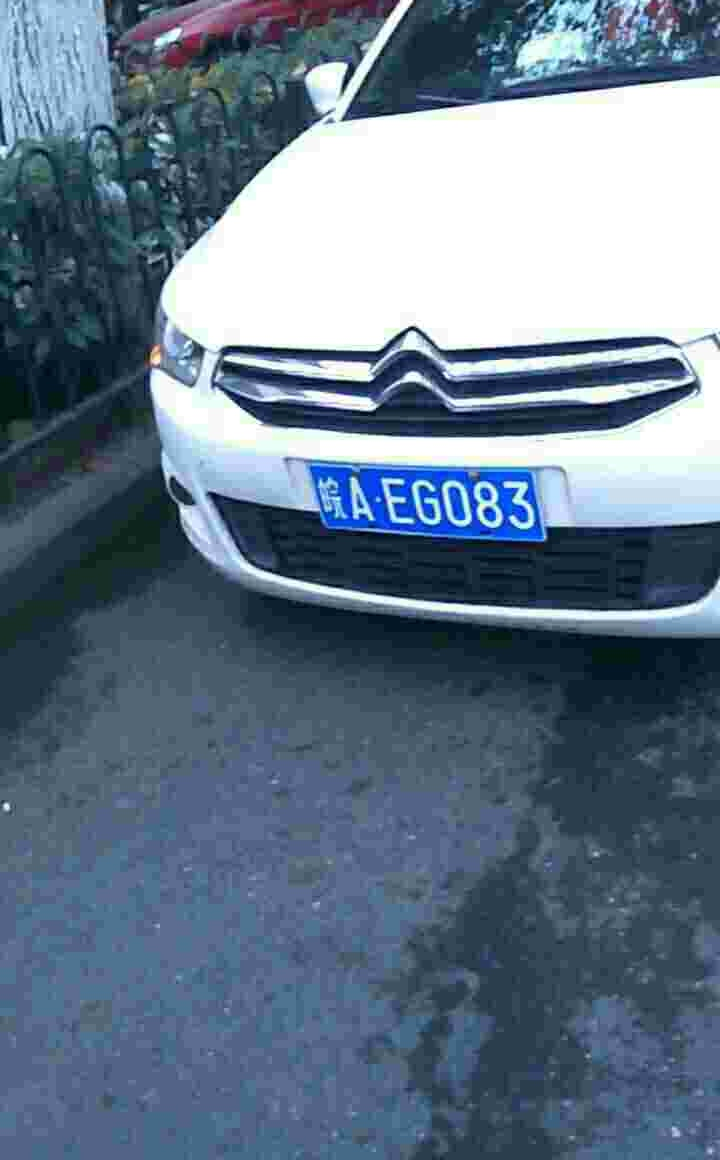plate: (300, 459, 553, 545)
